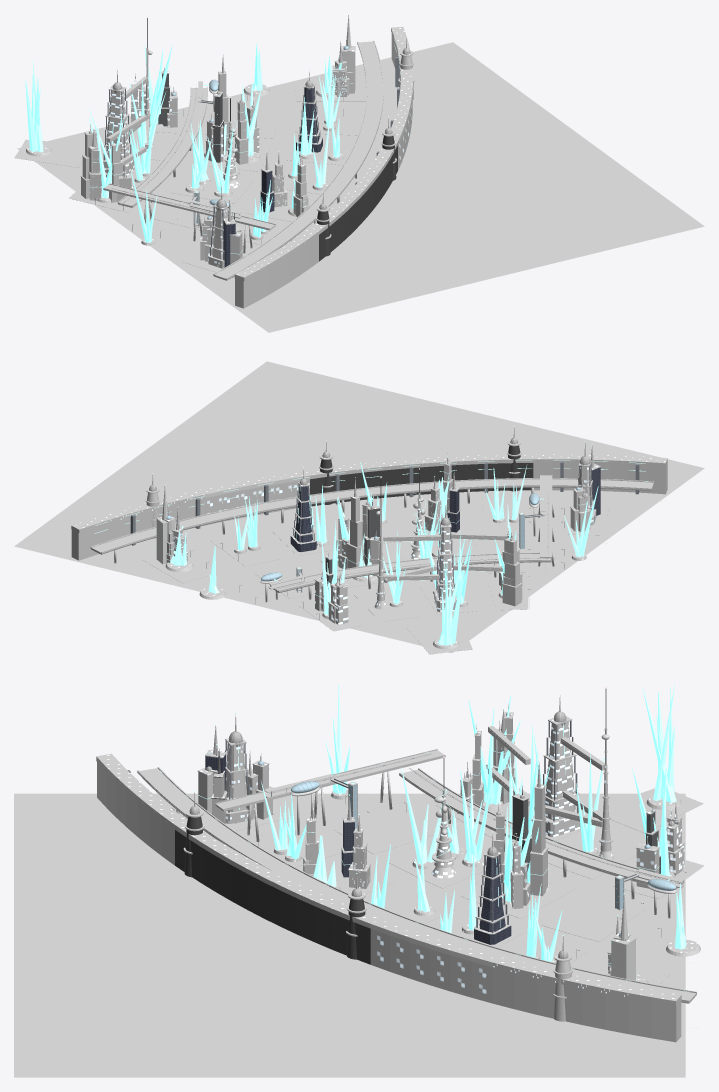
File: Viertel_R1.fbx
3 renders of one model, top to bottom at view 1: azimuth 30°, elevation 25°; view 2: azimuth 150°, elevation 25°; view 3: azimuth 270°, elevation 25°, orthographic. The views are drawn at different scales.
Parts seen in each view (by area): view 1: Viertel_R1_Strasse, Viertel_R1_Fassaden, Viertel_R1_Details; view 2: Viertel_R1_Strasse, Viertel_R1_Fassaden, Viertel_R1_Details; view 3: Viertel_R1_Strasse, Viertel_R1_Fassaden, Viertel_R1_Details.
Part boxes in pixels (left/top/right/bottom): Viertel_R1_Strasse: left=14, top=40, right=704, bottom=332; Viertel_R1_Fassaden: left=25, top=26, right=413, bottom=308; Viertel_R1_Details: left=26, top=14, right=414, bottom=272; Viertel_R1_Strasse: left=14, top=361, right=704, bottom=654; Viertel_R1_Fassaden: left=71, top=445, right=667, bottom=645; Viertel_R1_Details: left=94, top=426, right=647, bottom=649; Viertel_R1_Strasse: left=14, top=767, right=703, bottom=1077; Viertel_R1_Fassaden: left=96, top=683, right=686, bottom=1042; Viertel_R1_Details: left=127, top=687, right=700, bottom=998.
Bounding box in the file's own units: 65298 × 17808 × 64823.
